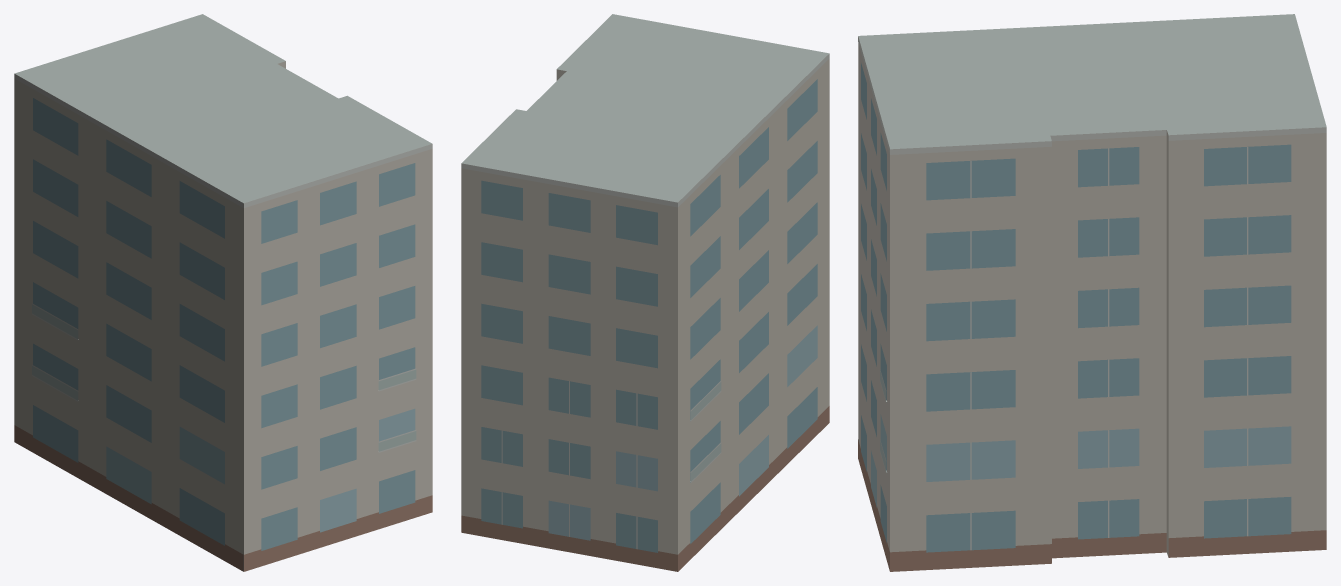
File: survey-upis-32922292.glb
3 views of the same model, side by side, from view 1: azimuth 30°, elevation 25°; view 2: azimuth 150°, elevation 25°; view 3: azimuth 270°, elevation 25° (orthographic). The views are drawn at different scales.
Parts seen in each view (by area): view 1: survey-upis-32922292.tmp; view 2: survey-upis-32922292.tmp; view 3: survey-upis-32922292.tmp.
Part boxes in pixels (<box>): survey-upis-32922292.tmp: <box>14,14,432,571</box>; survey-upis-32922292.tmp: <box>461,14,829,571</box>; survey-upis-32922292.tmp: <box>858,14,1326,571</box>.
Bounding box in the file's own units: 12.57 × 18.3 × 18.4.
